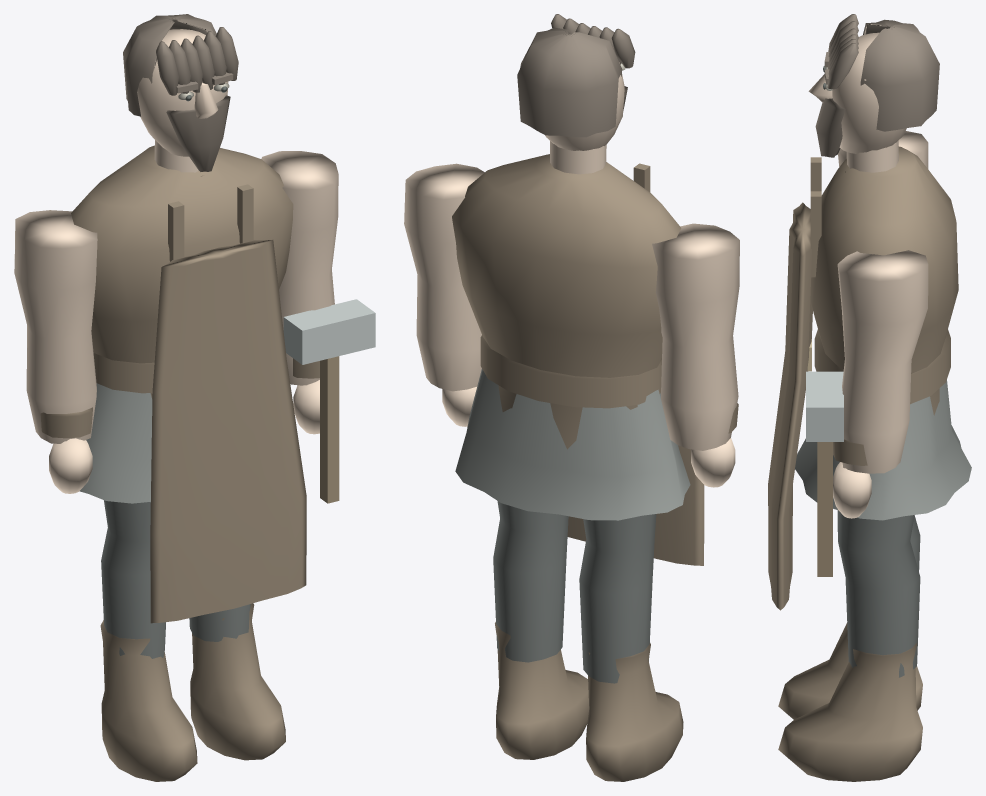
3 views of the same model, side by side, from view 1: azimuth 30°, elevation 25°; view 2: azimuth 150°, elevation 25°; view 3: azimuth 270°, elevation 25° (orthographic).
Visible parts, largest first — view 1: Body; view 2: Body; view 3: Body.
Boxes of the visible parts, <box> form: Body: <box>14,14,375,781</box>; Body: <box>404,14,739,781</box>; Body: <box>768,14,971,781</box>.
Bounding box in the file's own units: 0.8236 × 1.78 × 0.4577.
